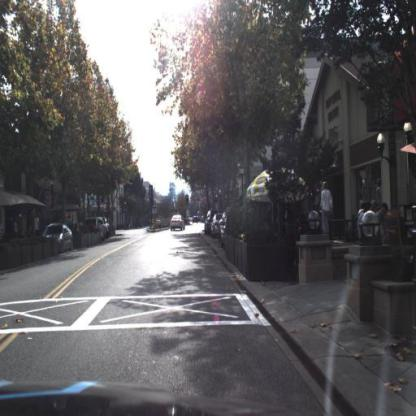car: (41, 219, 81, 259), (82, 216, 109, 247), (211, 212, 227, 240), (170, 213, 187, 234)
pedestrian: (318, 179, 336, 237)
trafficLight-Red: (186, 194, 191, 208)
